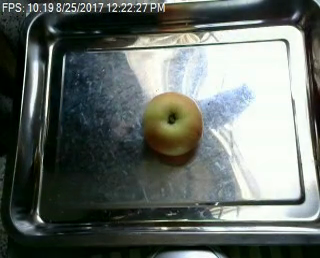Apple: (139, 90, 205, 156)
